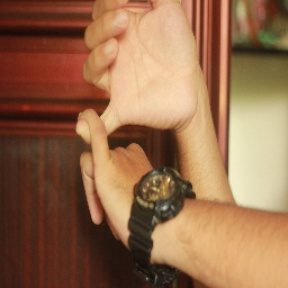S: (68, 2, 219, 240)
